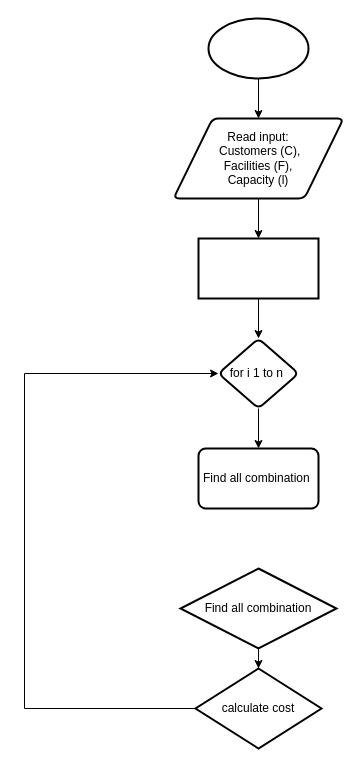
Some shapes in this 362 by 766 pixel diagram are drawn without their labels. Each missing label, with the box of its shape:
Initialise sum = 0 and capacities array: (197, 237, 319, 299)
Start: (207, 17, 309, 79)
